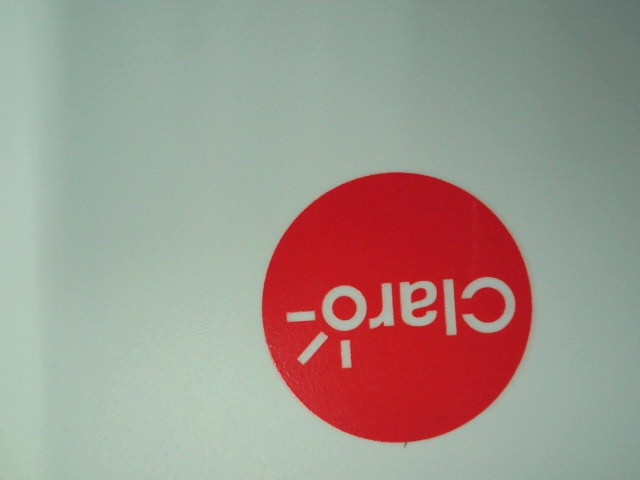BC_ClaorRed: (252, 164, 550, 450)
